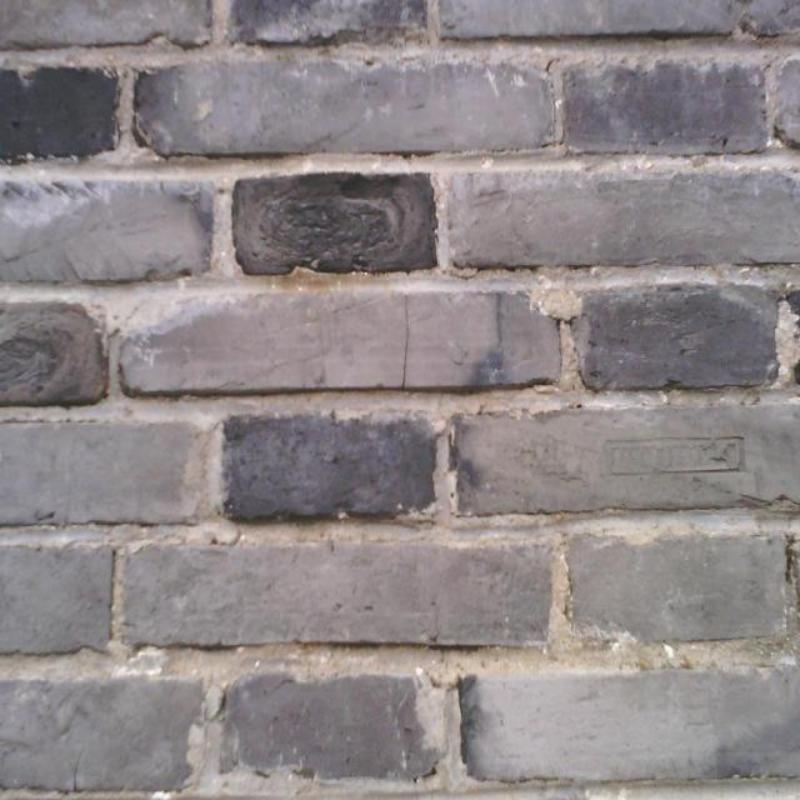pothole: (403, 295, 409, 387), (74, 748, 84, 789)
